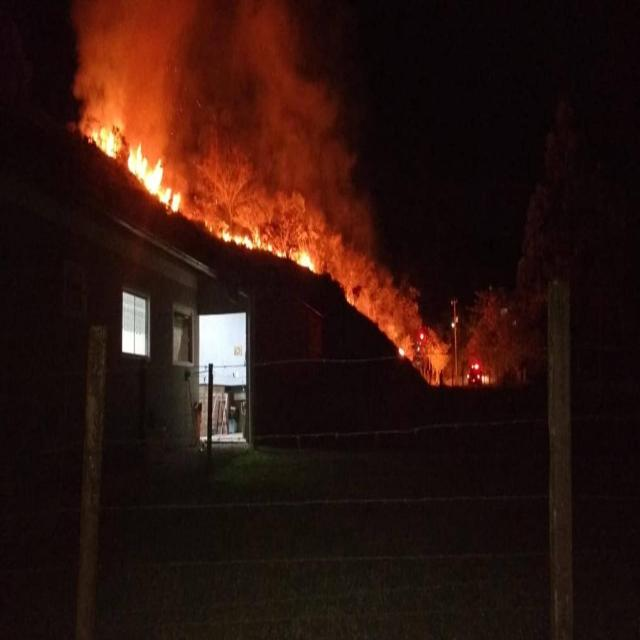Fire: (130, 145, 179, 216), (223, 228, 288, 260), (90, 118, 122, 160), (296, 249, 316, 272)
